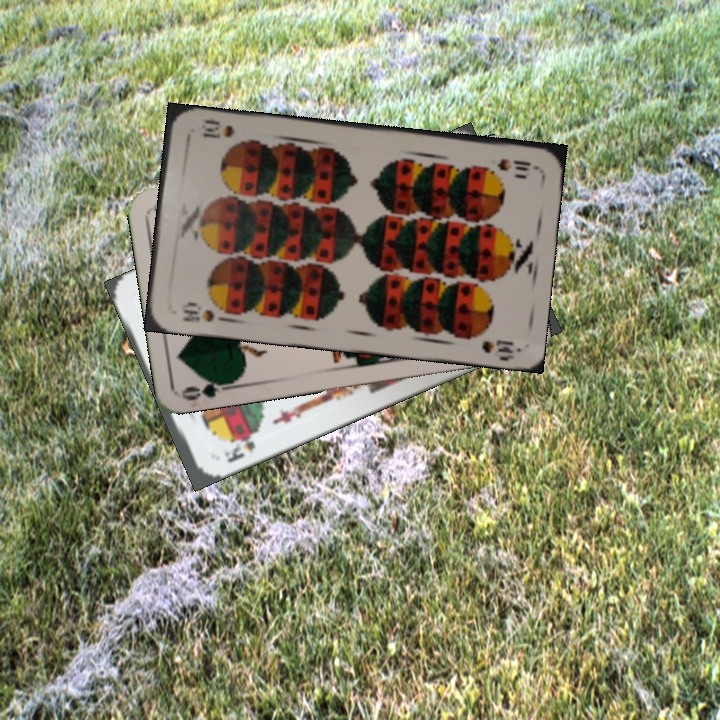GO: (180, 374, 239, 404)
S10: (178, 305, 230, 326), (492, 155, 533, 174)
SK: (220, 427, 260, 466)
